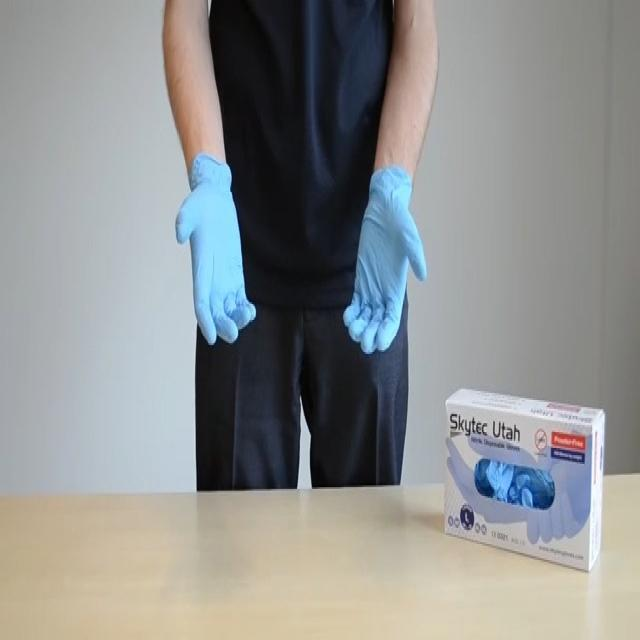Gloves: (343, 167, 431, 361), (171, 157, 255, 346)
